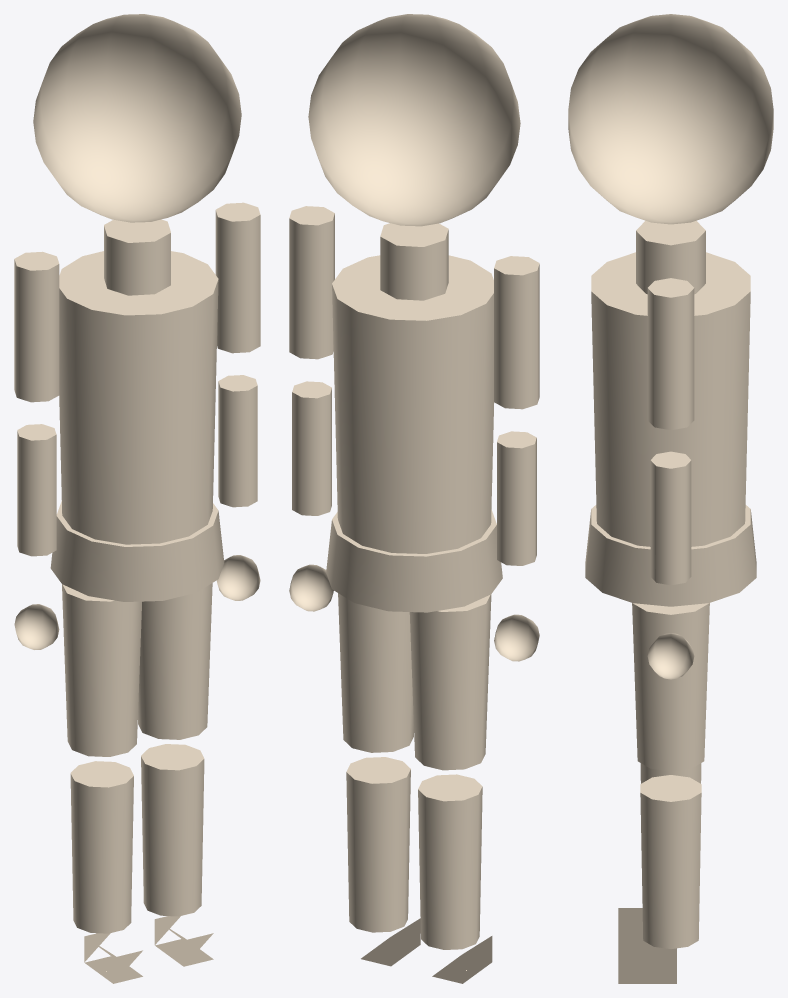
Rendered from base-male.glb.
3 renders of one model, left to right at view 1: azimuth 30°, elevation 25°; view 2: azimuth 150°, elevation 25°; view 3: azimuth 270°, elevation 25°, orthographic.
Visible parts, largest first — view 1: BaseMale; view 2: BaseMale; view 3: BaseMale.
Boxes of the visible parts, bbox=[...] form: BaseMale: bbox=[14, 14, 260, 983]; BaseMale: bbox=[289, 14, 539, 983]; BaseMale: bbox=[568, 14, 773, 983].
Size of the model in its own units: 0.48 by 1.76 by 0.351.
